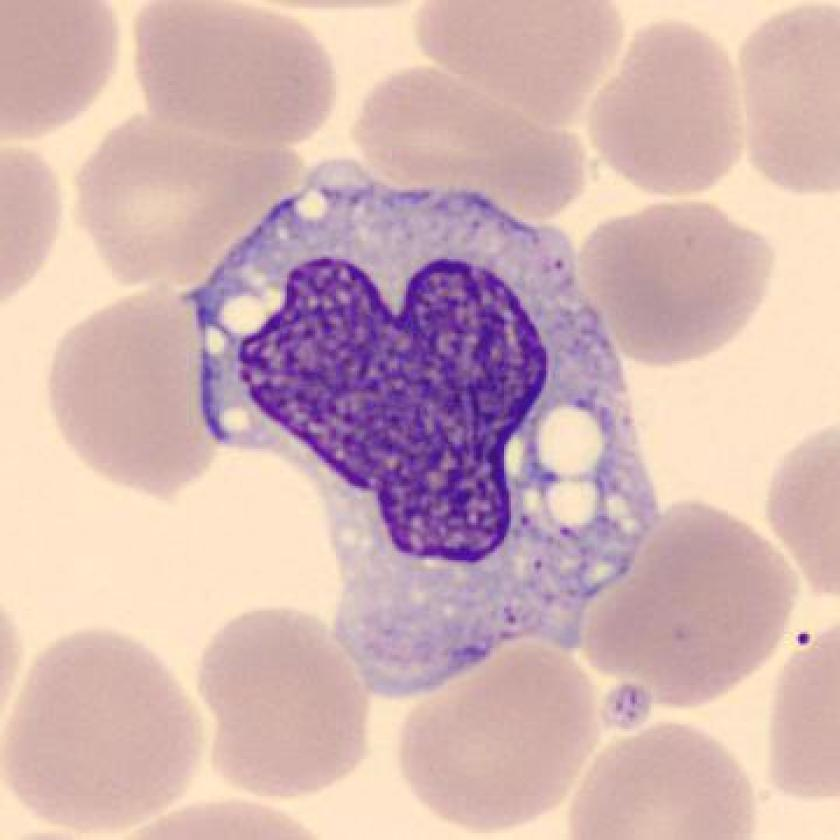monocyte: (167, 135, 685, 723)
